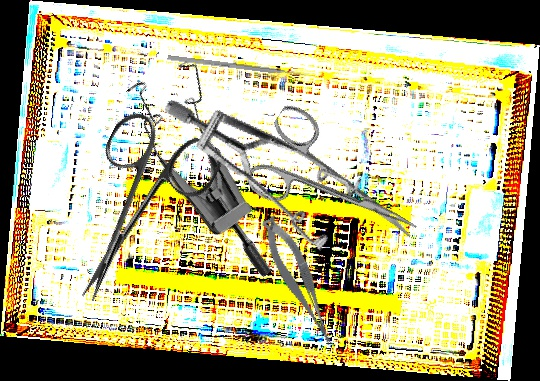Iris Scissors: (39, 102, 228, 326), (236, 100, 438, 276)
Micro Scissor: (257, 209, 339, 355)
Pusher: (167, 55, 313, 78)
Speculum: (94, 41, 340, 281), (162, 42, 381, 287)
